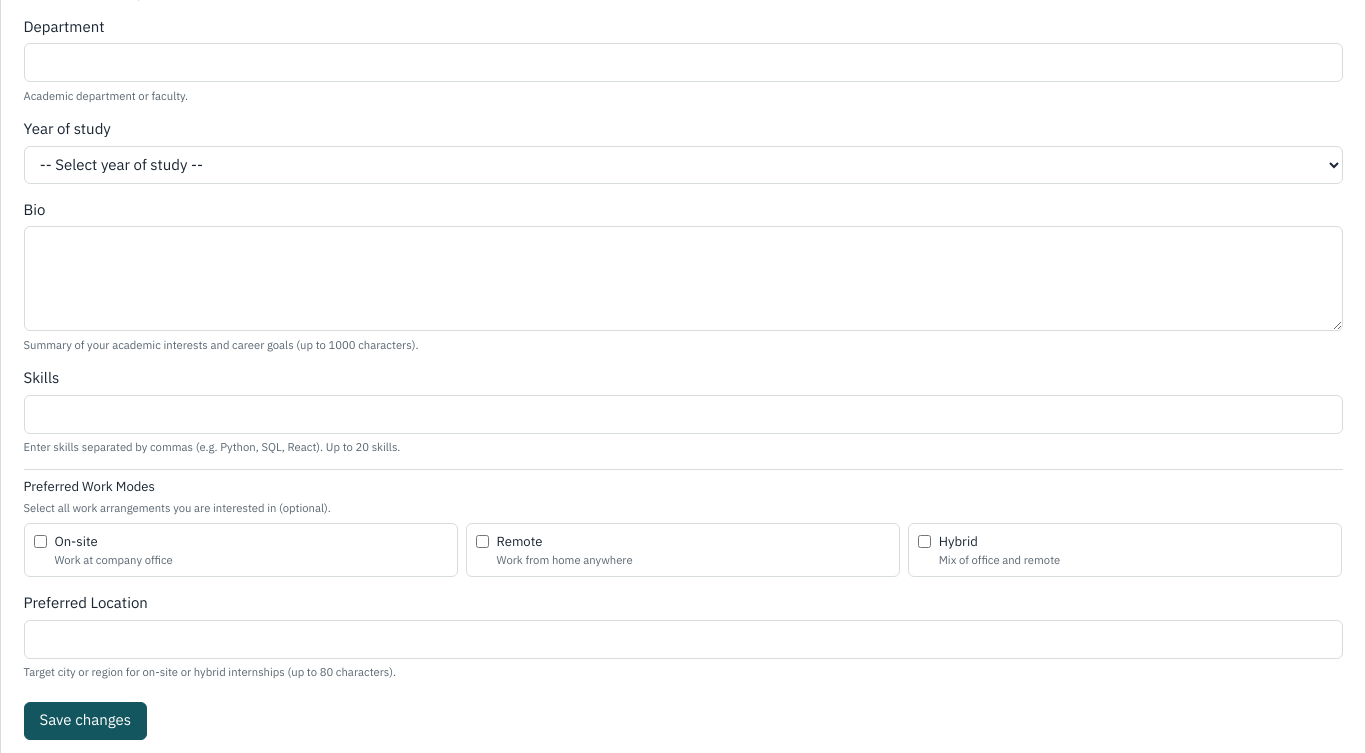
Test: StudentProfileForm Component › displays plain error notice when server rejects update
(page scrolled)
Click the button "Save changes" at (85, 721), box [24,702,147,740]
(page scrolled)
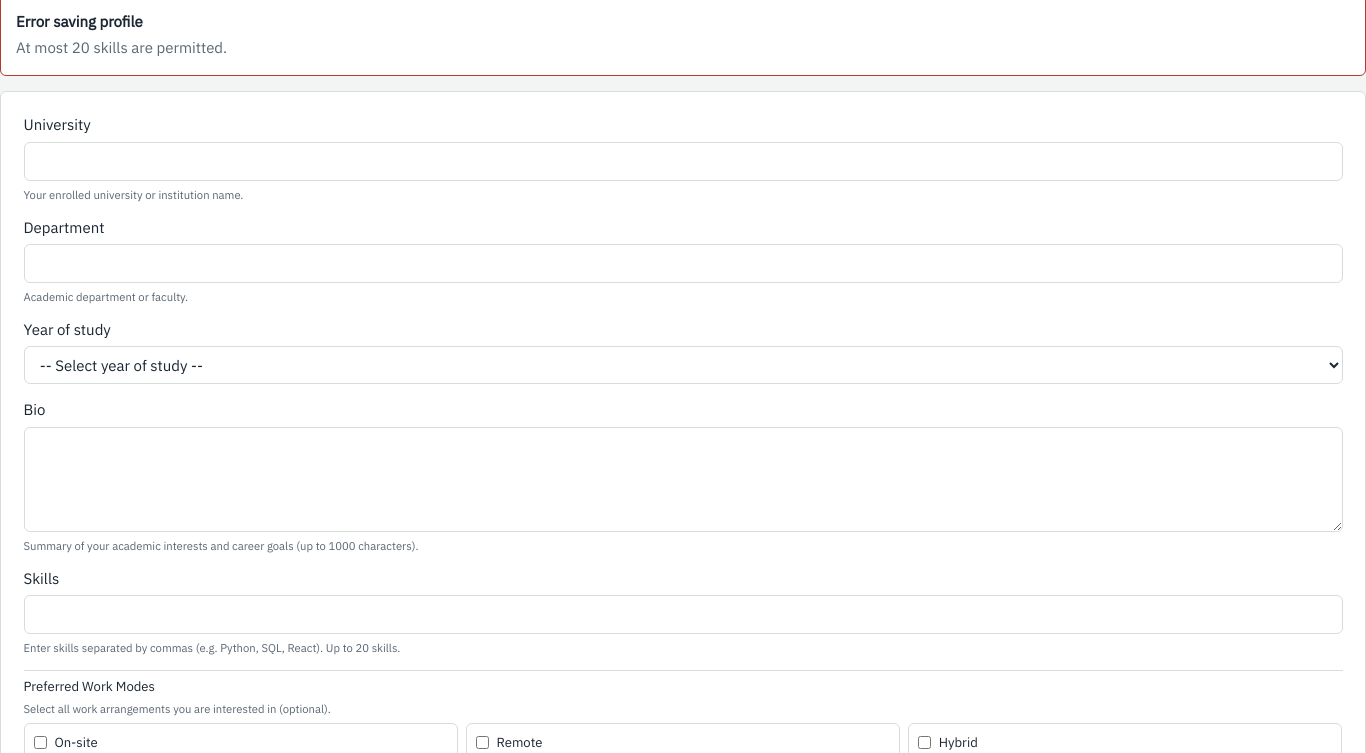
Now the element with test id "profile-server-error" shows "At most 20 skills are permitted.", box [16,38,227,57]
